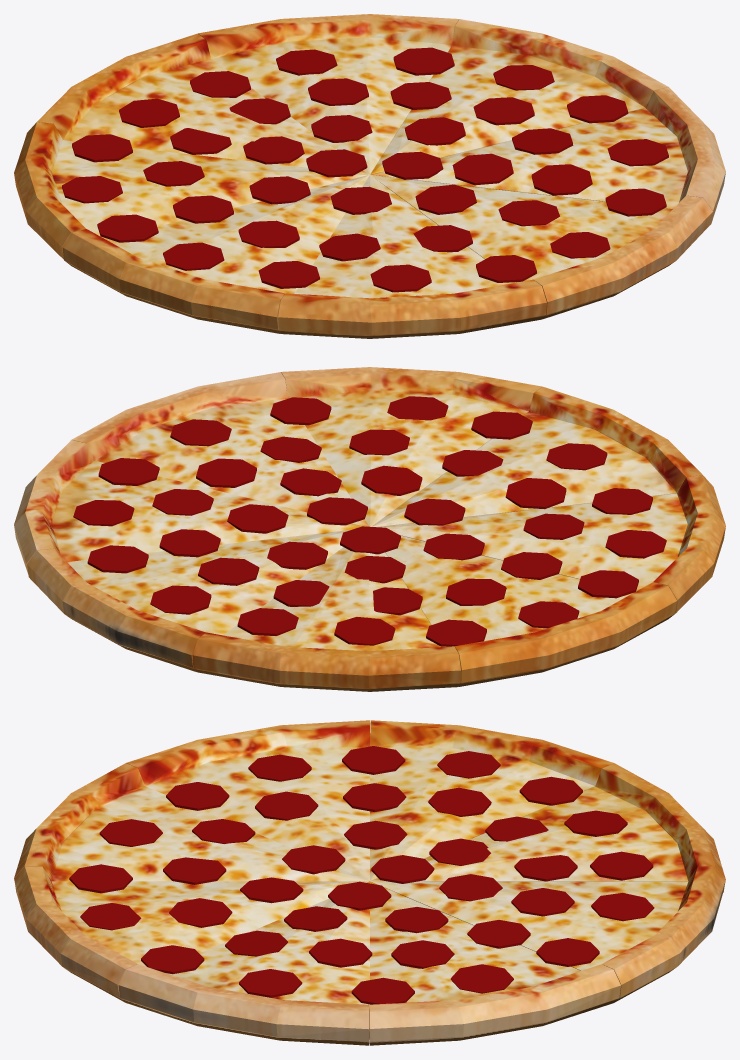
The model's file is pizza.glb.
The picture shows the model from 3 angles, top to bottom: view 1: azimuth 30°, elevation 25°; view 2: azimuth 150°, elevation 25°; view 3: azimuth 270°, elevation 25°; orthographic projection.
Parts seen in each view (by area): view 1: Node; view 2: Node; view 3: Node.
Part boxes in pixels (box(x1,y1,x2,y2)): Node: box(14, 14, 725, 338); Node: box(14, 367, 725, 691); Node: box(14, 720, 725, 1045).
Size of the model in its own units: 0.35 by 0.02 by 0.35.
Materials: 2 (1 with a texture image).
